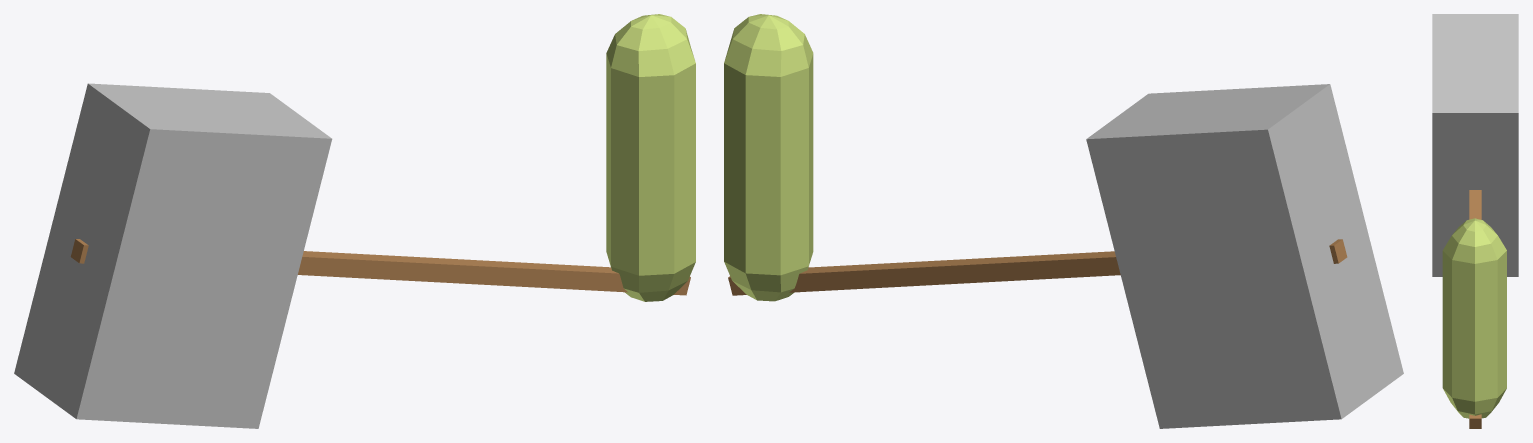
The model's file is bras_marteau.dae.
The picture shows the model from 3 angles, left to right: view 1: azimuth 30°, elevation 25°; view 2: azimuth 150°, elevation 25°; view 3: azimuth 270°, elevation 25°; orthographic projection. The views are drawn at different scales.
Visible parts, largest first — view 1: Bras_001-Node001; view 2: Bras_001-Node001; view 3: Bras_001-Node001.
Boxes of the visible parts, left/top/right/bottom form: Bras_001-Node001: left=14, top=14, right=695, bottom=428; Bras_001-Node001: left=724, top=14, right=1403, bottom=428; Bras_001-Node001: left=1432, top=14, right=1518, bottom=428.
Size of the model in its own units: 3.49 by 0.584 by 1.68.
